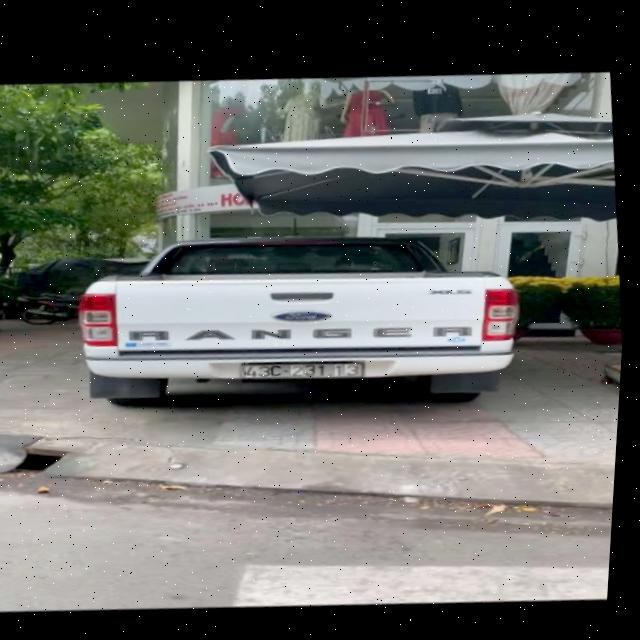car: (76, 185, 544, 459)
plate: (227, 336, 373, 403)
